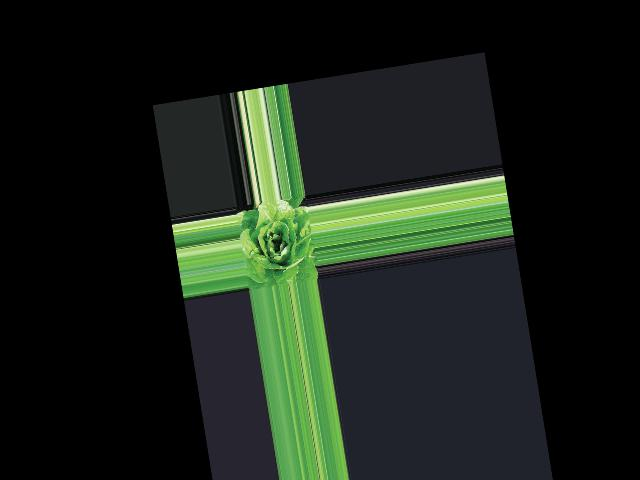lettuce: (238, 199, 319, 289)
